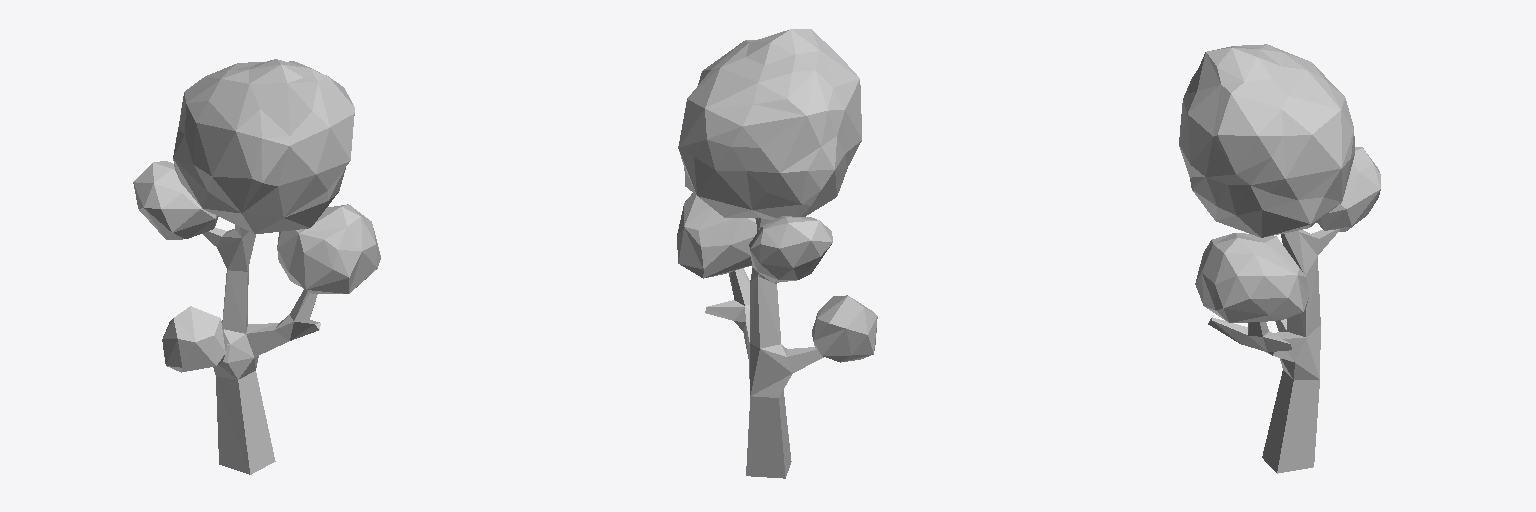
Rendered from NaturePackTree1.obj.
The picture shows the model from 3 angles: view 1: azimuth 30°, elevation 25°; view 2: azimuth 150°, elevation 25°; view 3: azimuth 270°, elevation 25°; orthographic projection.
Parts seen in each view (by area): view 1: Tree1_Cube.020; view 2: Tree1_Cube.020; view 3: Tree1_Cube.020.
Boxes of the visible parts, box(x1,y1,x2,y2) form: Tree1_Cube.020: box(133, 59, 380, 474); Tree1_Cube.020: box(677, 29, 877, 478); Tree1_Cube.020: box(1179, 44, 1380, 473).
Bounding box in the file's own units: 11.61 × 23.64 × 10.38.